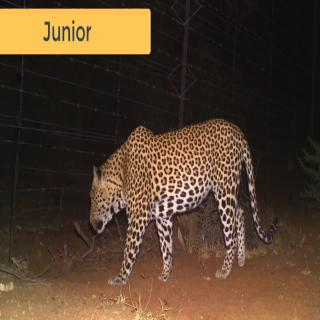Leopard: (89, 116, 279, 285)
